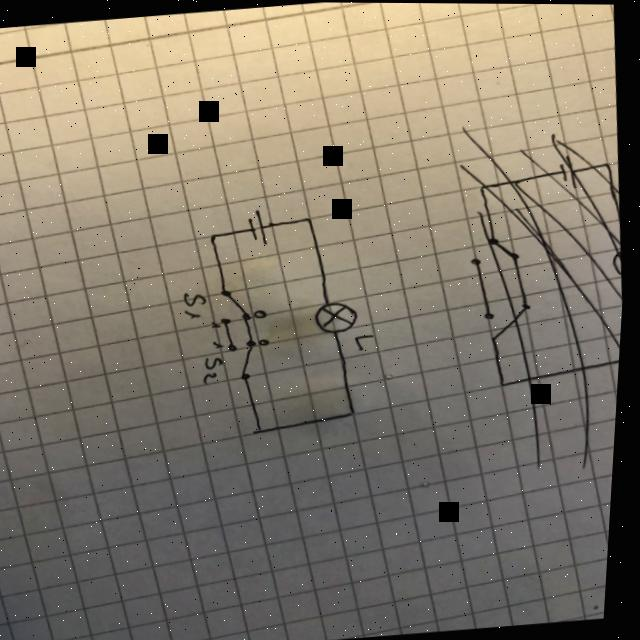junction: (254, 420, 274, 434), (207, 229, 224, 241), (348, 405, 364, 417), (301, 212, 317, 224)
source: (246, 205, 273, 248)
switch: (227, 336, 267, 382), (217, 285, 259, 324)
text: (202, 353, 234, 384), (182, 289, 214, 319), (357, 330, 382, 350), (254, 306, 274, 320), (214, 336, 232, 351), (259, 335, 277, 348), (211, 318, 227, 329)
